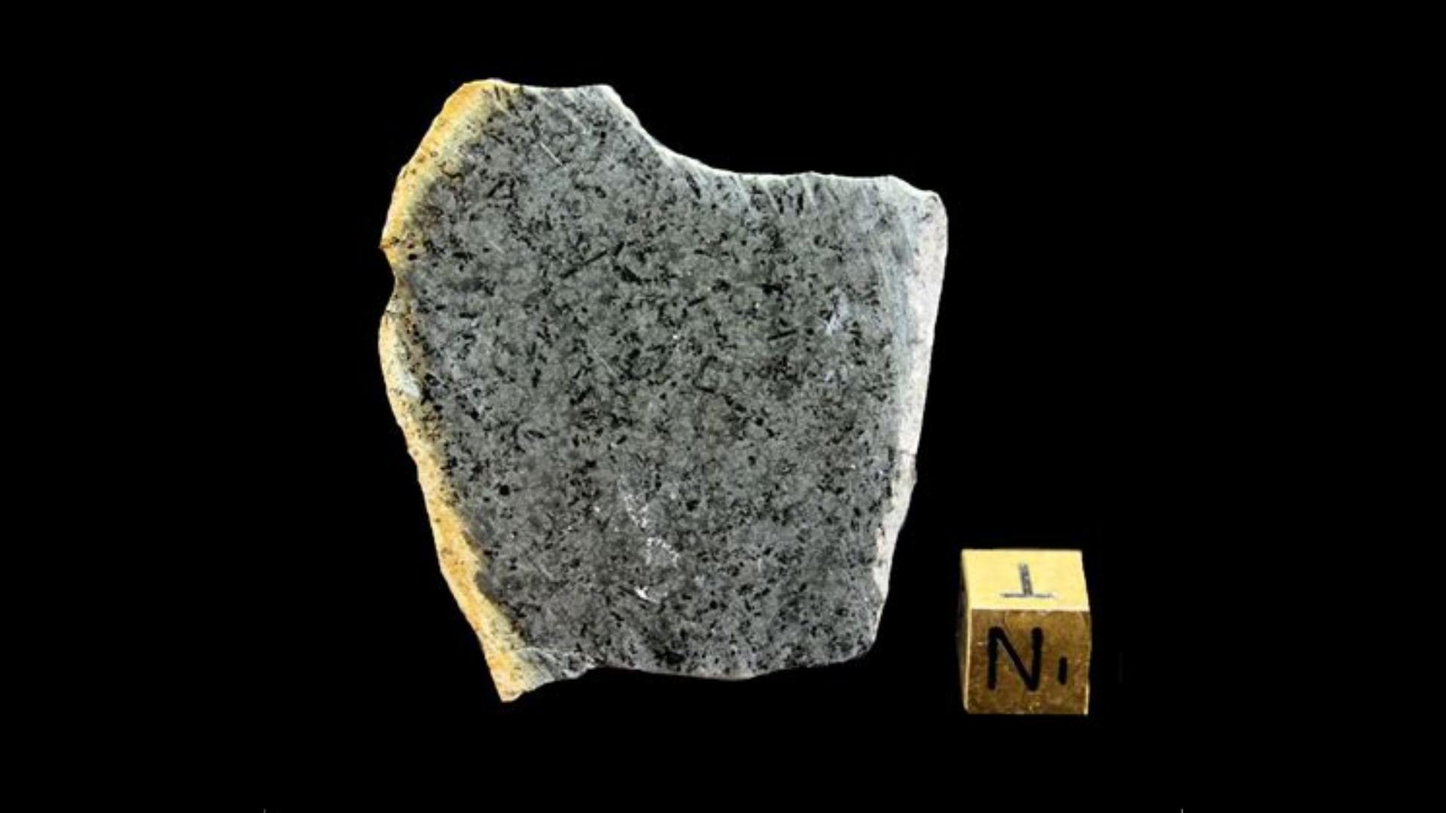rock: (379, 83, 944, 695)
